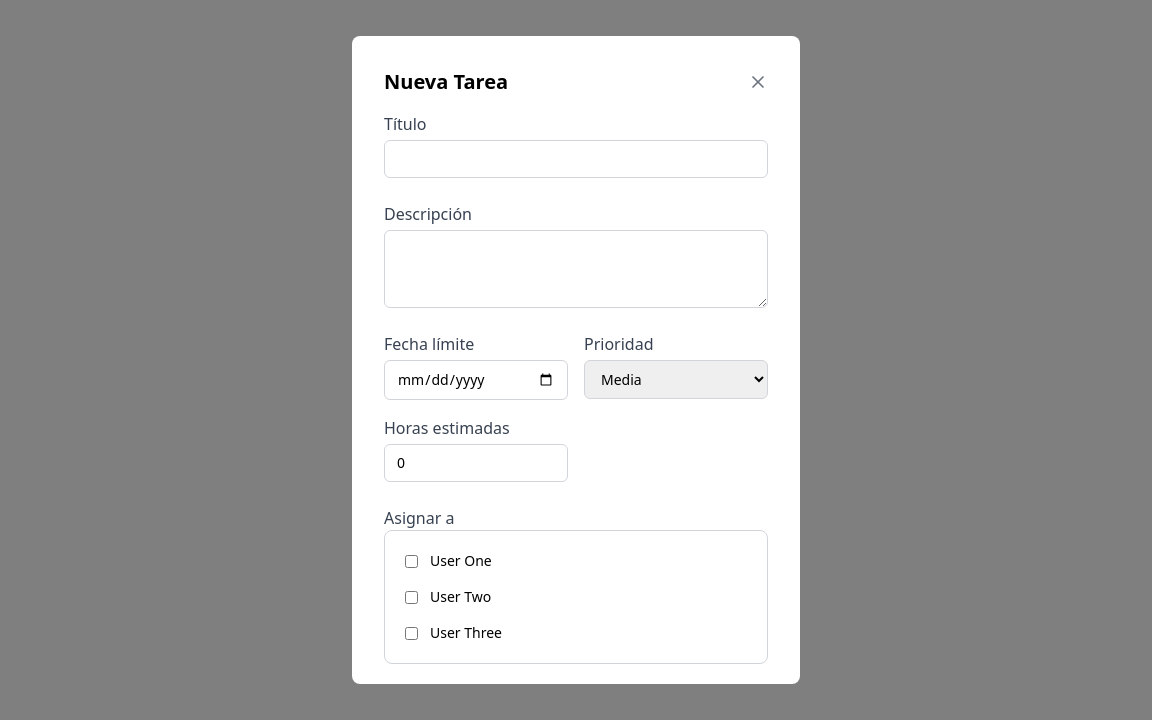
Scenario: TaskForm › handles user selection correctly
Seleccionar "User One" y "User Two"
Click the checkbox with test id "checkbox-user-1": {"x": 412, "y": 561} [405,554,418,568]
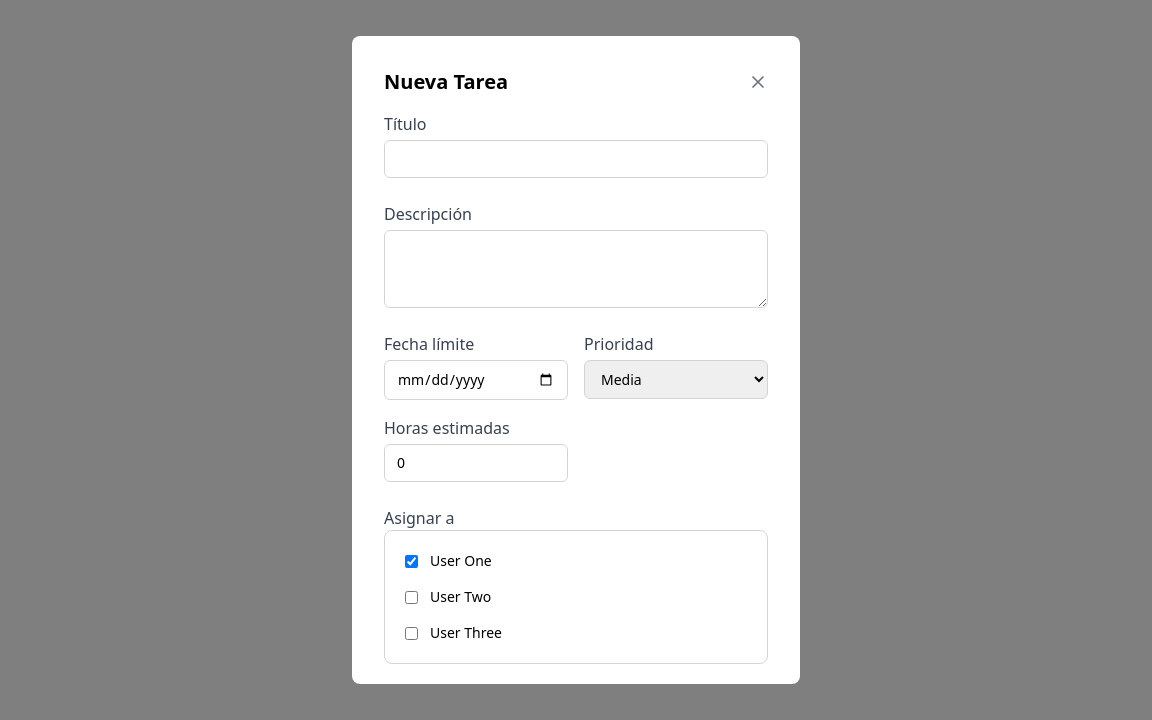
Click the checkbox with test id "checkbox-user-2": {"x": 412, "y": 597} [405,590,418,604]
(page scrolled)
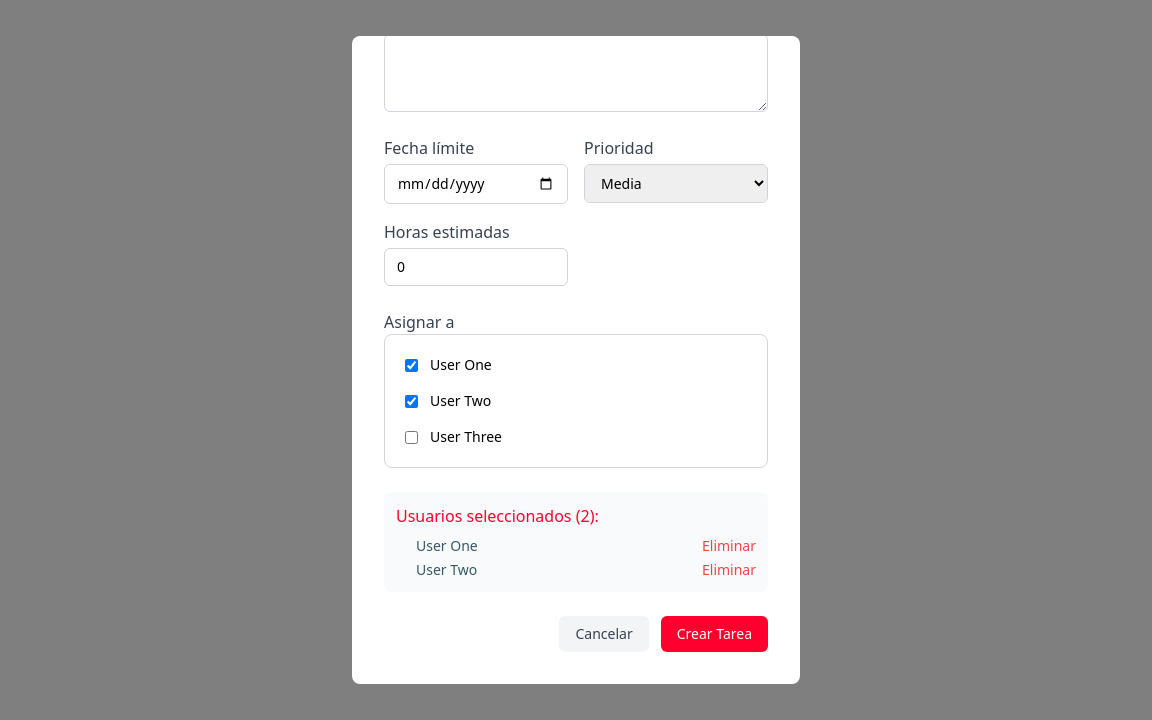
Expected: the list item with test id "selected-user-1" is shown, [416,536,756,556]
Expected: the list item with test id "selected-user-2" is shown, [416,560,756,580]
Eliminar "User One"
Click the 1st button "Eliminar": {"x": 729, "y": 546} [702,536,756,556]
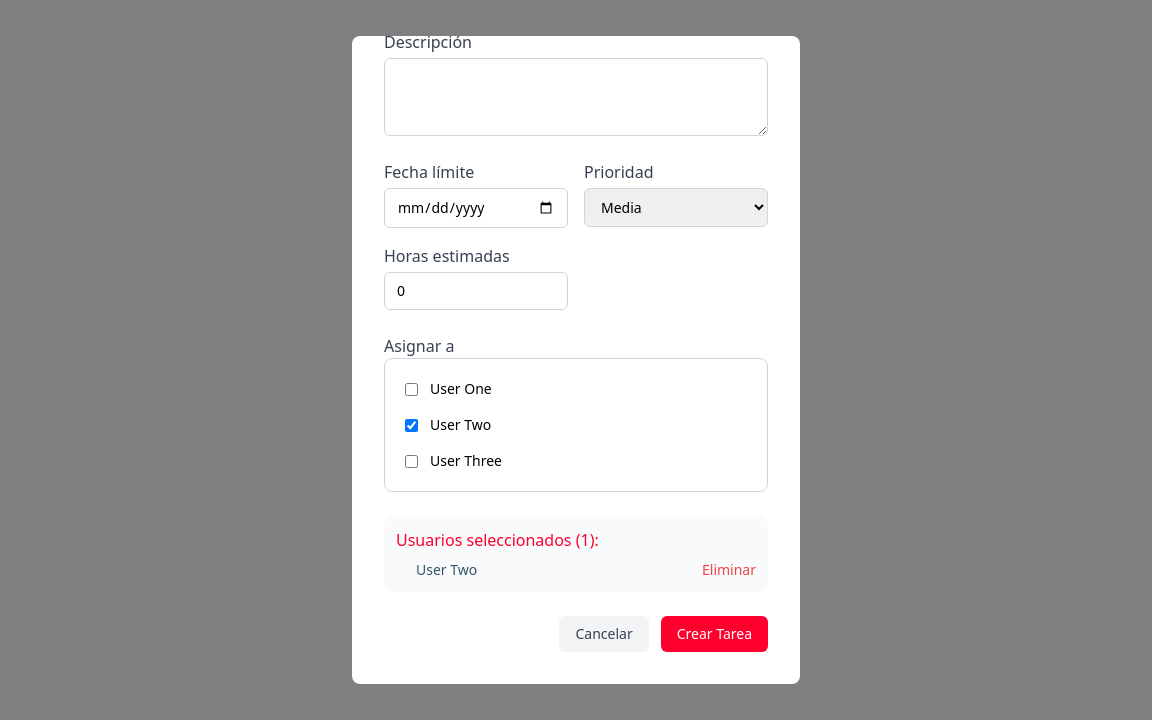
Expected: the list item with test id "selected-user-2" is shown, [416,560,756,580]
Expected: the list item with test id "selected-user-1" is gone
